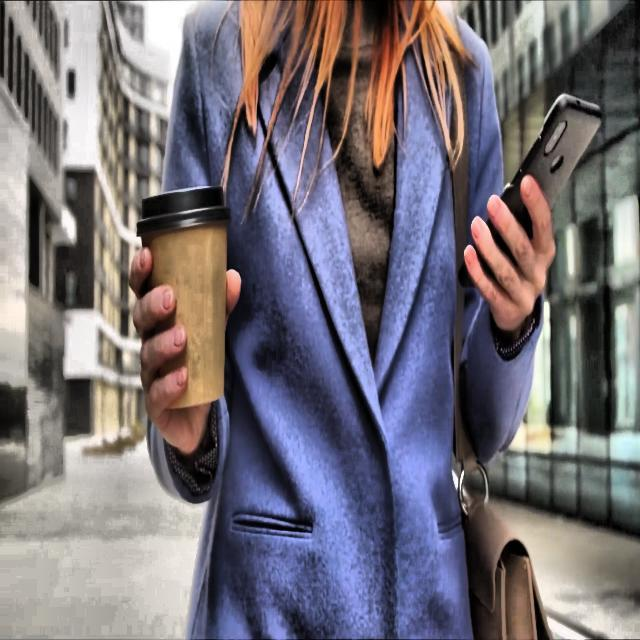Phone: (458, 89, 602, 294)
